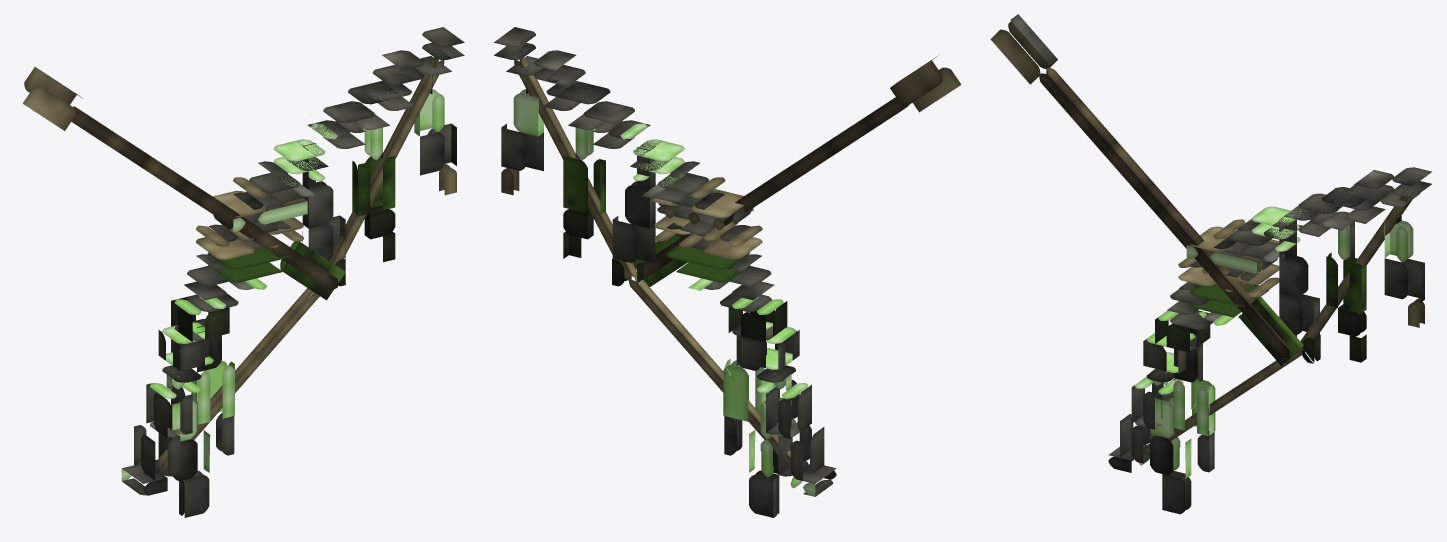
Rendered from willow_bow_pulling_0.obj.
3 renders of one model, left to right at view 1: azimuth 30°, elevation 25°; view 2: azimuth 150°, elevation 25°; view 3: azimuth 330°, elevation 25°, orthographic. The views are drawn at different scales.
Visible parts, largest first — view 1: lit, fire; view 2: lit, fire; view 3: lit, fire.
Part boxes in pixels (left/top/right/bottom): lit: left=23, top=27, right=464, bottom=517; fire: left=278, top=241, right=345, bottom=300; lit: left=494, top=27, right=961, bottom=517; fire: left=632, top=233, right=687, bottom=286; lit: left=990, top=14, right=1431, bottom=514; fire: left=1238, top=296, right=1303, bottom=365.
Bounding box in the file's own units: 1.13 × 1.21 × 0.125.
